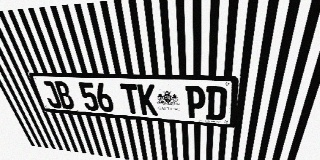5: (78, 82, 100, 111)
6: (93, 82, 115, 112)
B: (53, 81, 76, 109)
D: (206, 86, 228, 121)
J: (40, 81, 63, 108)
K: (137, 84, 158, 116)
P: (185, 85, 206, 119)
T: (120, 83, 141, 114)
